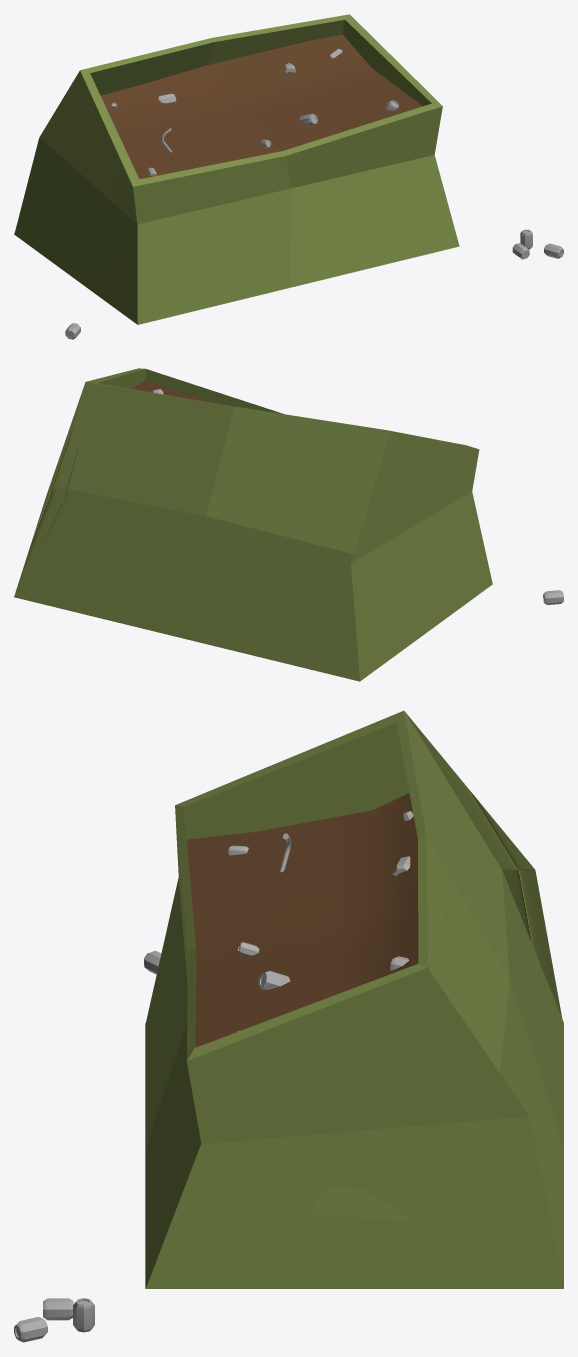
The model's file is Dumpster_2.fbx.
The picture shows the model from 3 angles, top to bottom: view 1: azimuth 30°, elevation 25°; view 2: azimuth 150°, elevation 25°; view 3: azimuth 270°, elevation 25°; orthographic projection. The views are drawn at different scales.
Parts seen in each view (by area): view 1: pCylinder16; view 2: pCylinder16; view 3: pCylinder16.
Part boxes in pixels (<box>): pCylinder16: <box>14,14,563,339</box>; pCylinder16: <box>14,368,563,681</box>; pCylinder16: <box>14,710,563,1342</box>.
Size of the model in its own units: 3.26 by 1.32 by 2.01.
